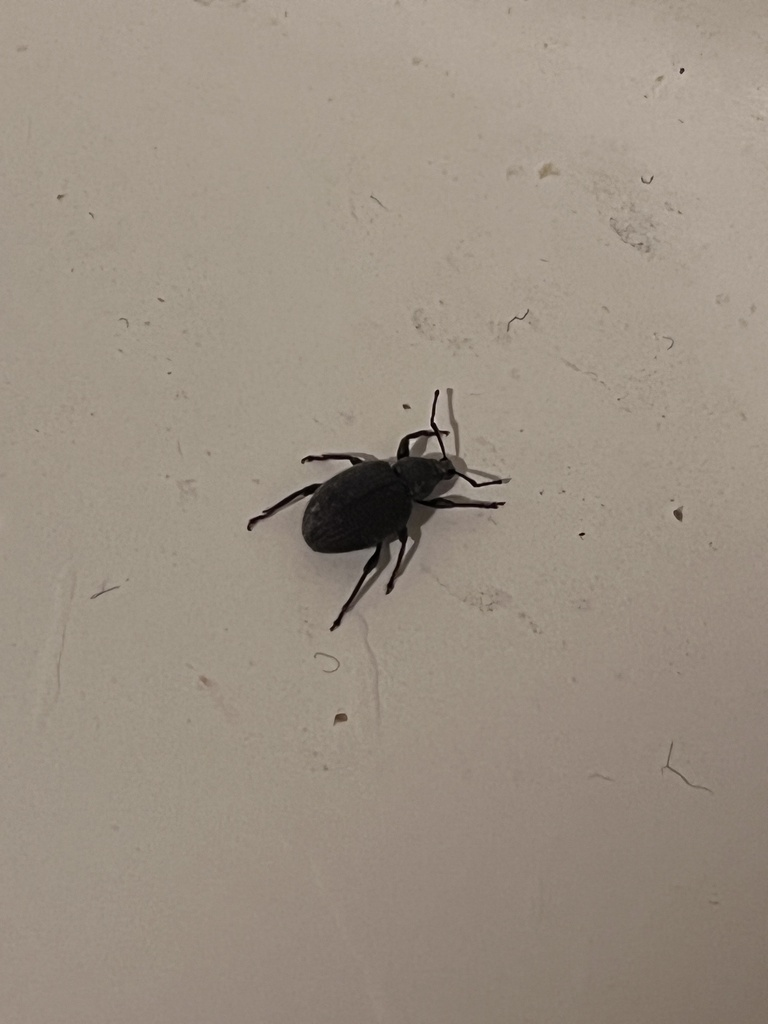weevils: (182, 325, 590, 695)
